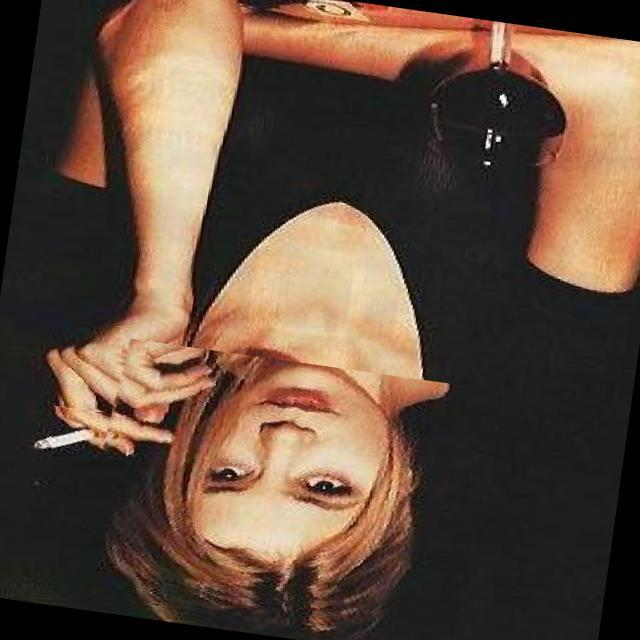cigarette: (17, 400, 120, 478)
